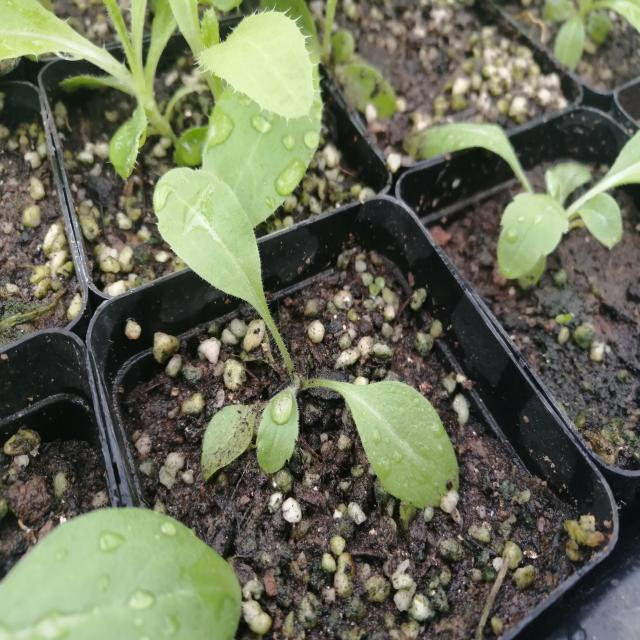horseweed: (132, 156, 460, 518)
